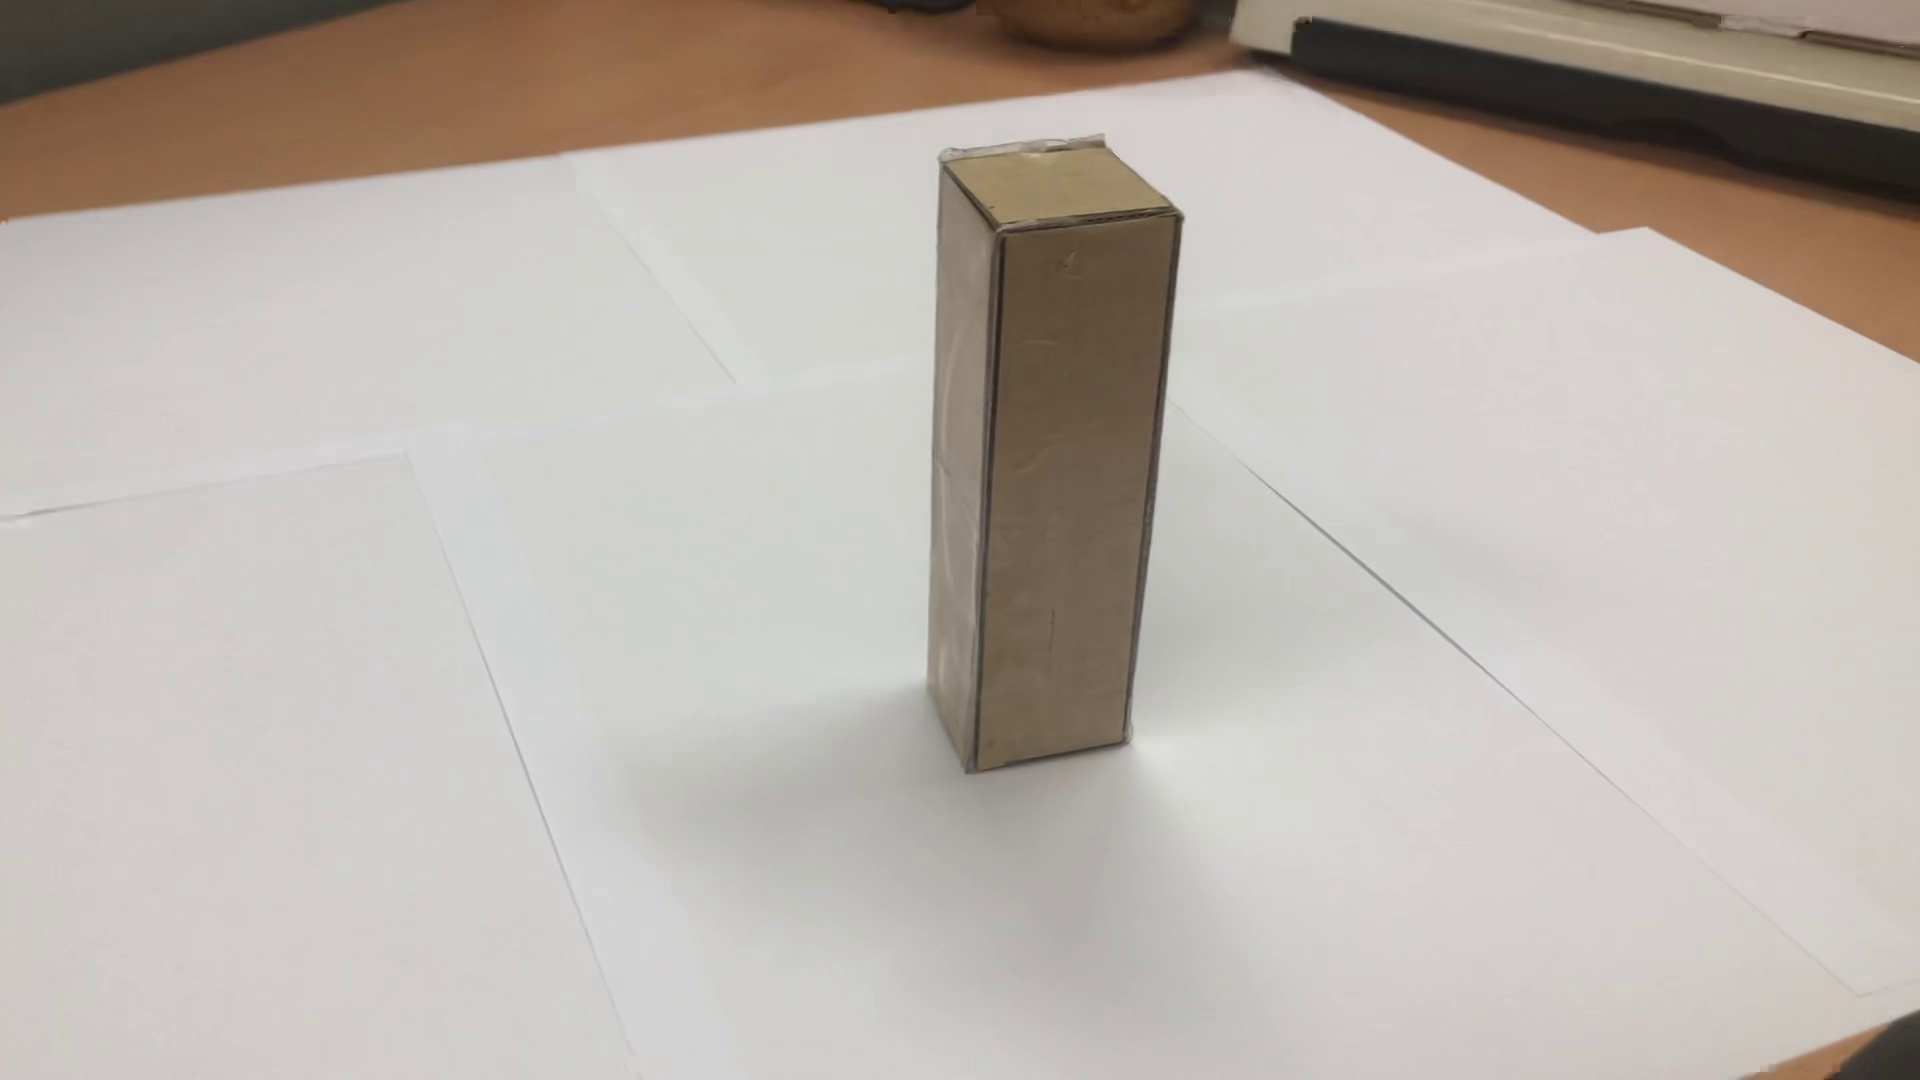box: (905, 117, 1213, 798)
